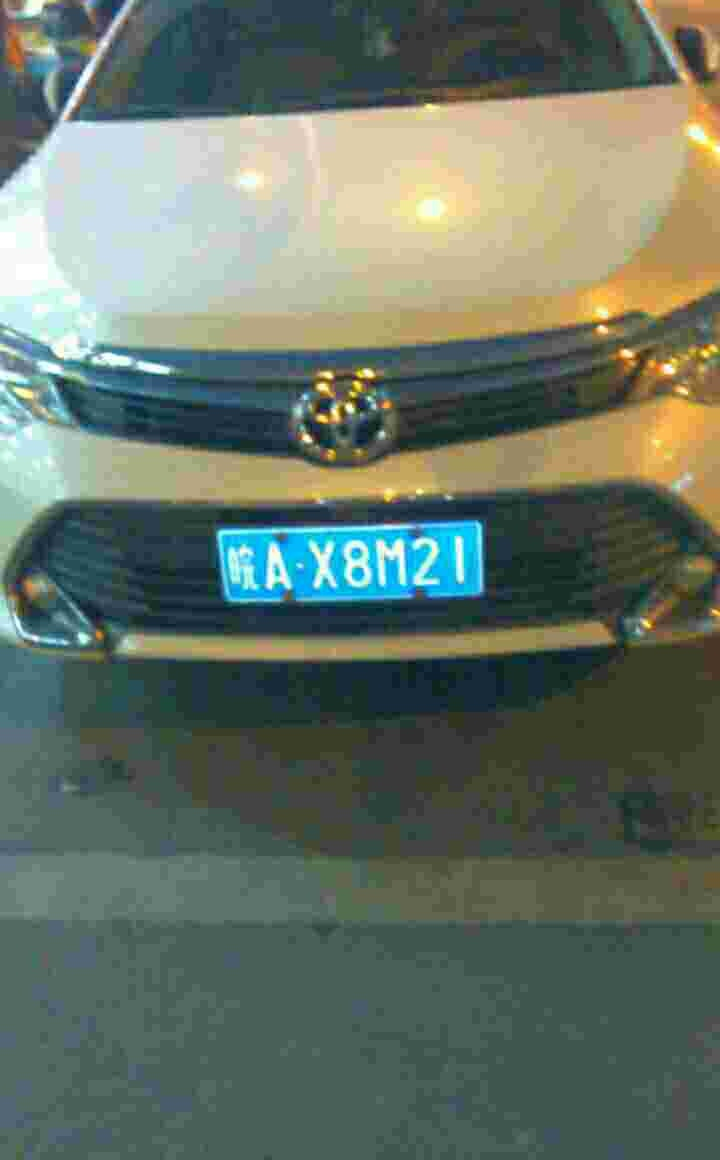plate: (219, 520, 491, 606)
